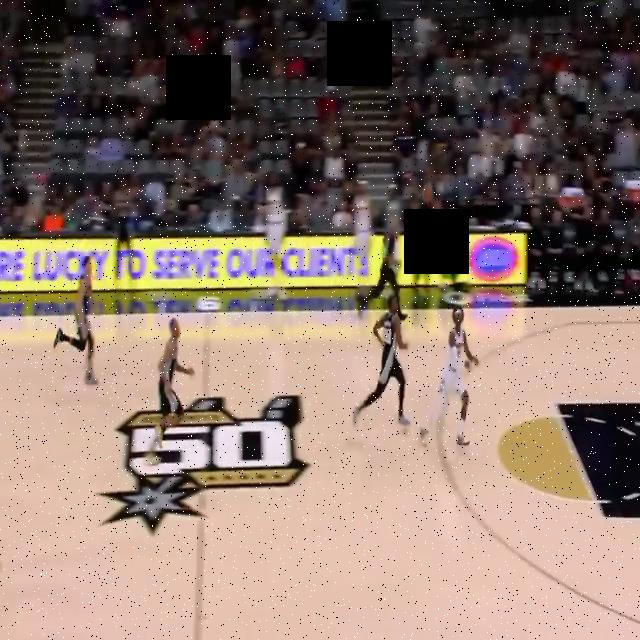Middle: (193, 243, 223, 383)
Right Bottom Left Paint: (586, 489, 618, 546)
Right Tick: (404, 283, 426, 338)
Right Top Left Paint: (537, 376, 570, 432)
